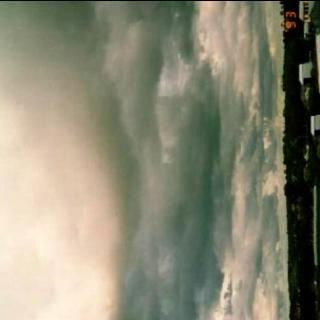Stratocumulus: (0, 0, 282, 320)
